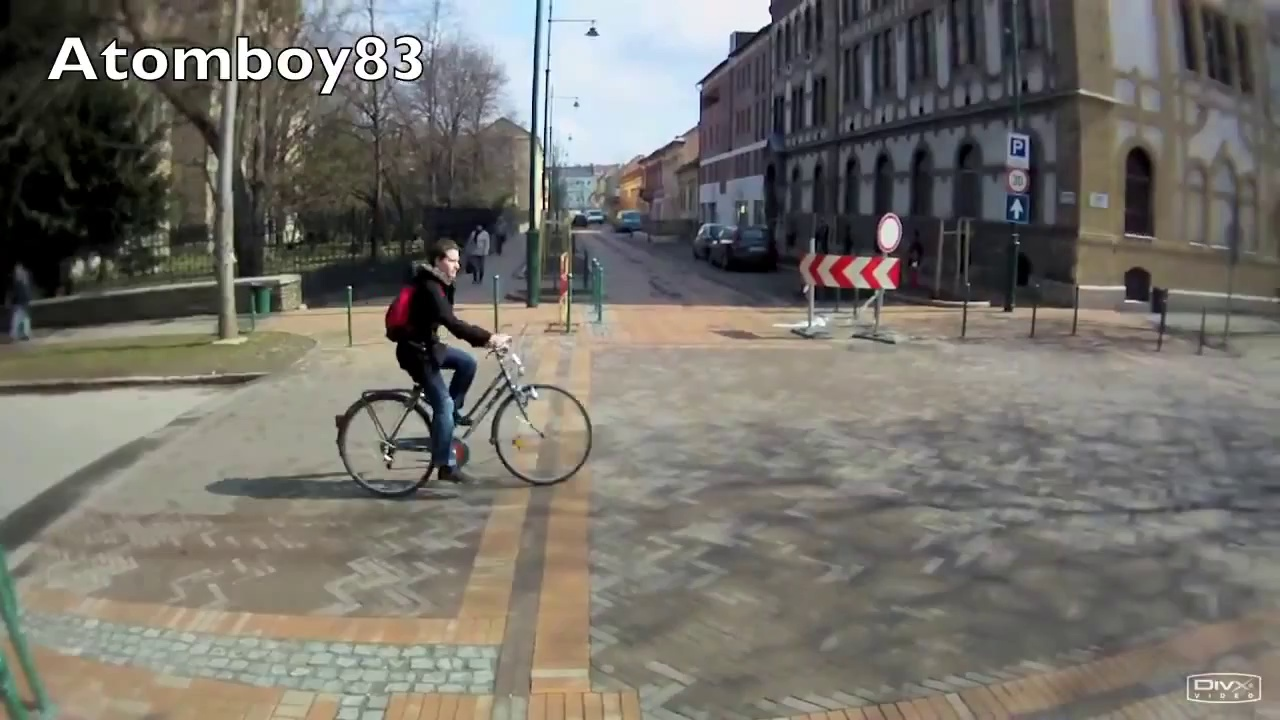cyclist_side: (340, 235, 600, 505)
